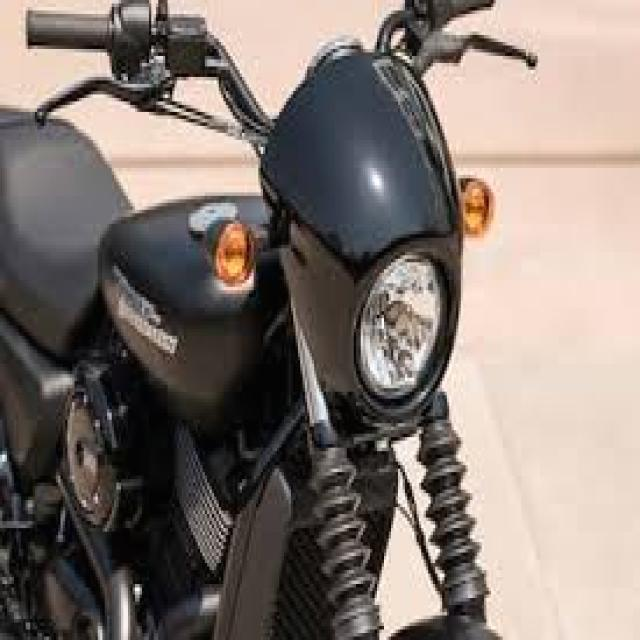MOTORCYCLE: (4, 1, 498, 634)
